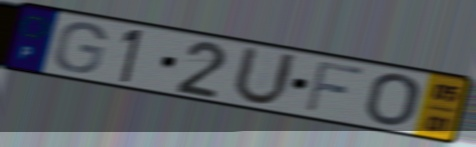1: (119, 27, 144, 85)
2: (175, 38, 231, 102)
F: (302, 58, 368, 115)
G: (51, 21, 110, 75)
O: (363, 72, 423, 128)
U: (229, 43, 299, 108)
